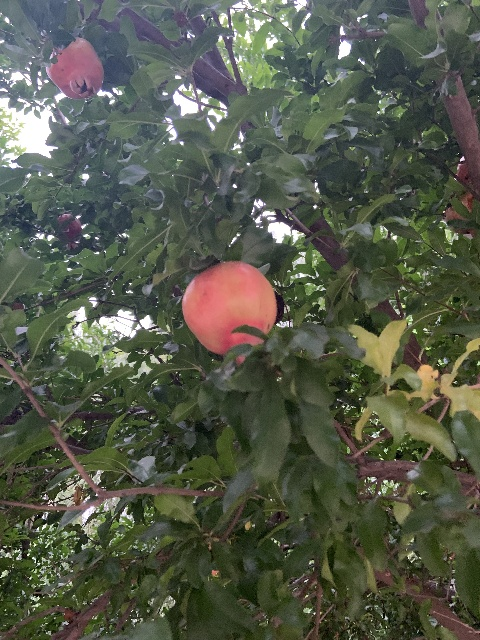ripe: (181, 260, 277, 365), (45, 37, 103, 99), (57, 213, 81, 250)
